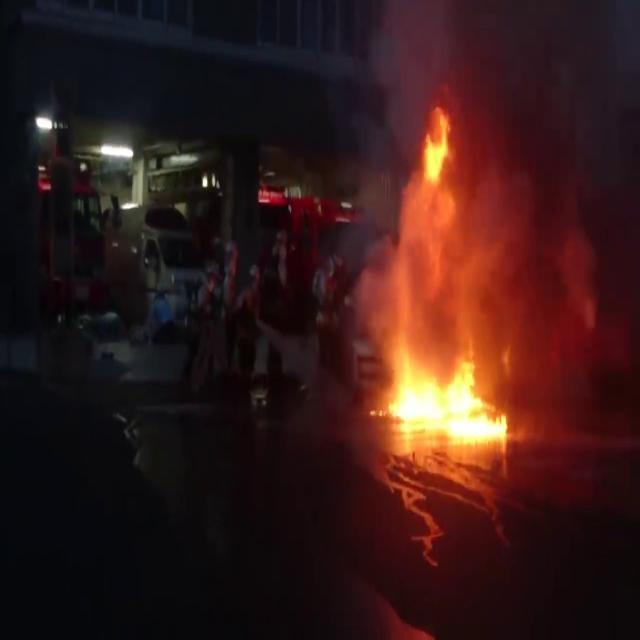Fire: (368, 331, 510, 445), (400, 89, 454, 330), (454, 175, 526, 338)
Smoke: (456, 0, 598, 174), (525, 173, 599, 331), (506, 334, 600, 442), (372, 2, 458, 90), (352, 230, 399, 328)
